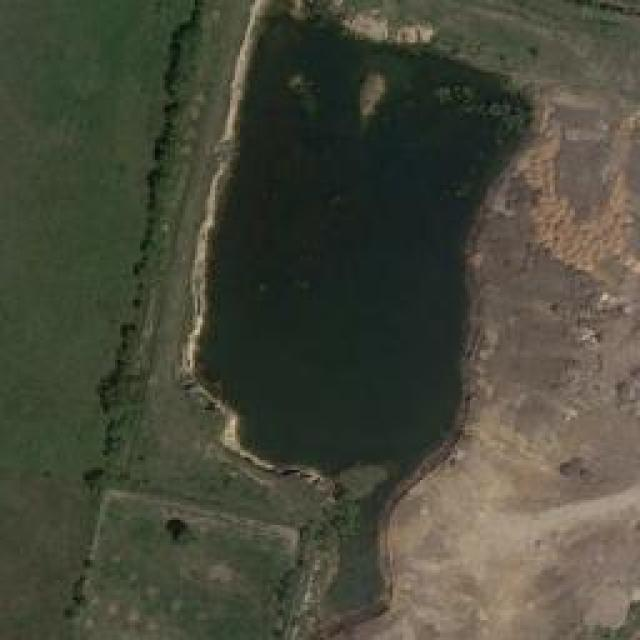Agriculture: (0, 0, 638, 638)
Lake: (181, 0, 576, 538)
